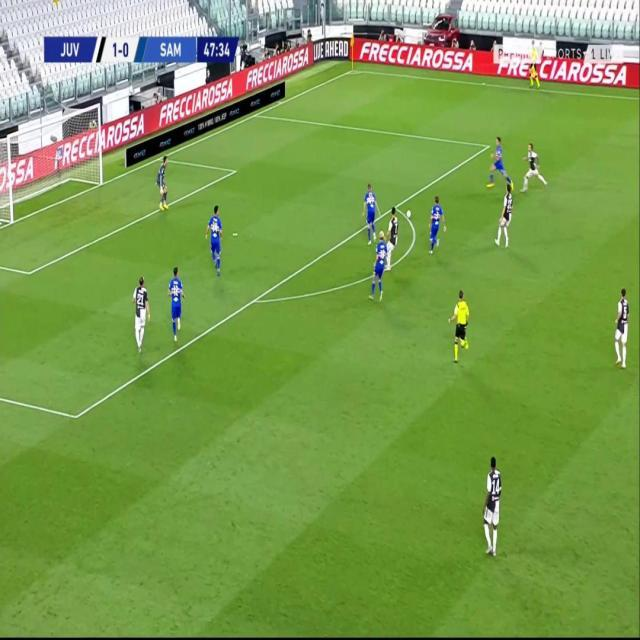ball: (405, 208, 412, 220)
goalkeeper: (156, 155, 170, 215)
player: (481, 452, 506, 558), (612, 284, 631, 371), (131, 274, 151, 353), (167, 265, 187, 342), (487, 135, 513, 193), (521, 140, 547, 194), (206, 205, 225, 277), (370, 232, 387, 305), (495, 186, 514, 251), (427, 194, 446, 255), (362, 182, 379, 247), (386, 208, 400, 269)
referee: (448, 288, 471, 365), (528, 40, 541, 89)
